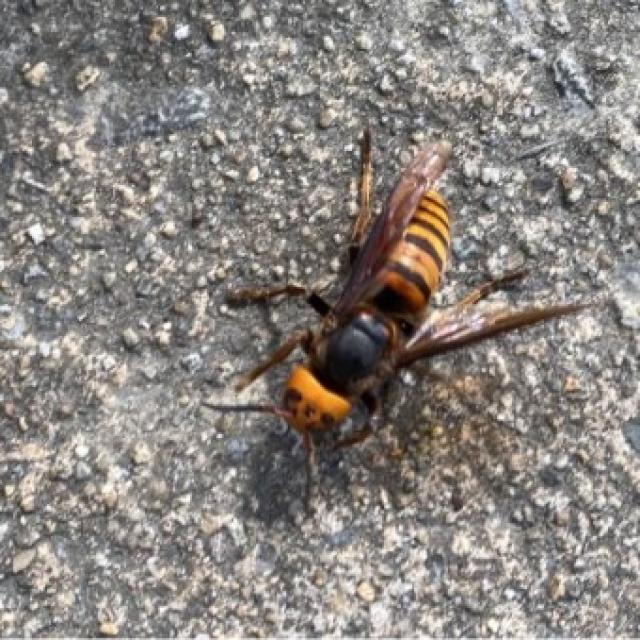Wasp: (219, 126, 569, 452)
